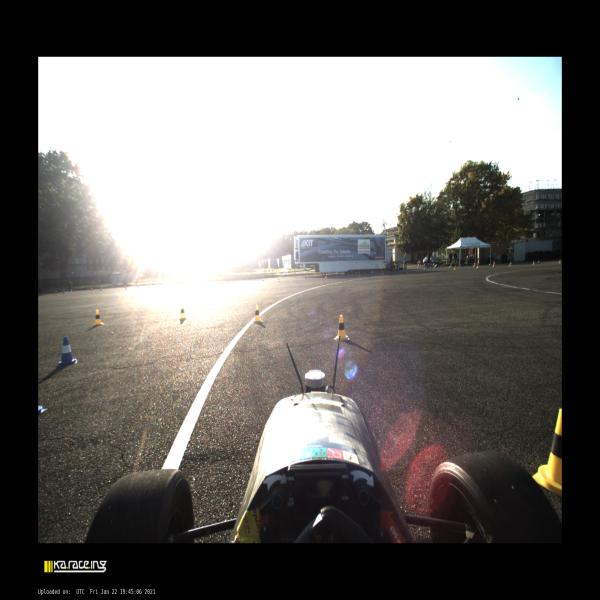blue_cone: (58, 336, 78, 366), (38, 406, 48, 415), (424, 267, 426, 271), (402, 269, 404, 272), (342, 273, 344, 276), (262, 278, 264, 281), (538, 260, 540, 263), (101, 287, 102, 290), (63, 290, 64, 293), (489, 264, 490, 266), (449, 266, 450, 268), (305, 276, 306, 278), (372, 272, 372, 274), (138, 286, 138, 288)
large_orange_cone: (473, 262, 476, 267), (493, 261, 495, 267)
yellow_cone: (532, 408, 562, 498), (334, 315, 350, 341), (93, 310, 105, 326), (253, 306, 263, 322), (179, 306, 187, 320), (220, 281, 222, 287), (559, 259, 561, 264), (509, 262, 511, 267), (533, 260, 535, 264), (476, 264, 478, 268), (454, 266, 456, 270), (92, 288, 94, 292), (125, 286, 127, 290), (148, 285, 150, 289), (161, 286, 163, 290), (325, 274, 327, 278), (430, 268, 432, 271), (56, 291, 57, 295), (278, 278, 279, 282), (382, 271, 383, 275), (407, 269, 408, 273), (359, 273, 360, 276)
